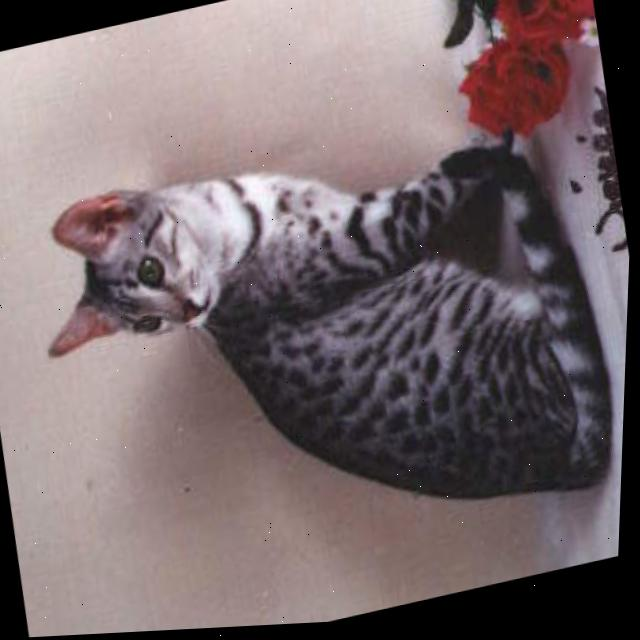Egyptian Mau: (8, 86, 637, 612)
